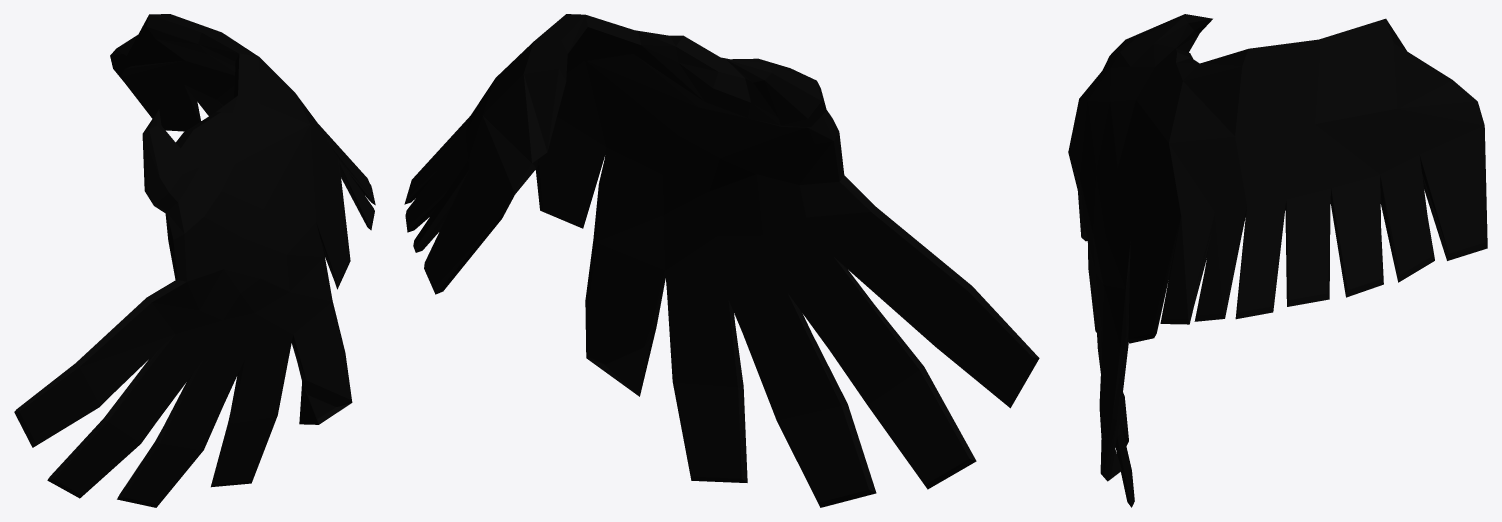
The model's file is 0492_youci003.glb.
3 views of the same model, side by side, from view 1: azimuth 30°, elevation 25°; view 2: azimuth 150°, elevation 25°; view 3: azimuth 270°, elevation 25° (orthographic). The views are drawn at different scales.
Bounding box in the file's own units: 2.2 × 2 × 1.56.
Materials: 1 (1 with a texture image).
